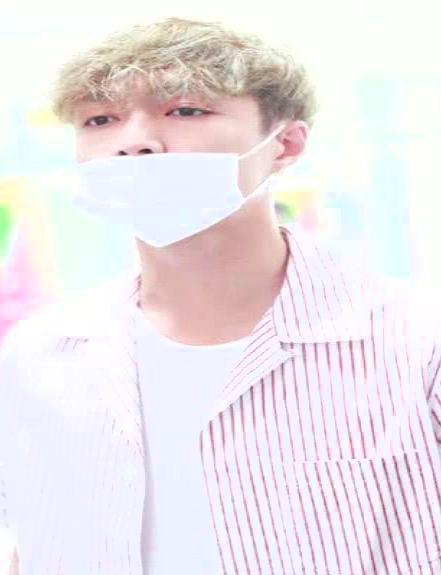mask_weared_incorrect: (65, 97, 265, 251)
